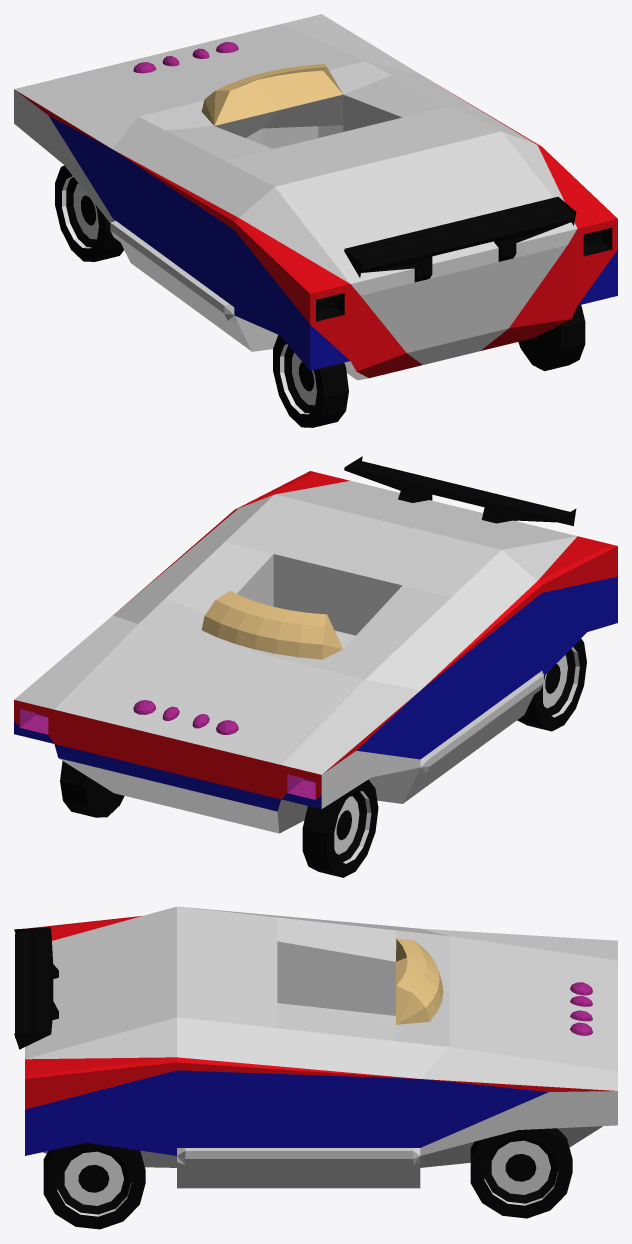
Rendered from COCHE 3.fbx.
The picture shows the model from 3 angles, top to bottom: view 1: azimuth 30°, elevation 25°; view 2: azimuth 150°, elevation 25°; view 3: azimuth 270°, elevation 25°; orthographic projection.
Visible parts, largest first — view 1: CHASIS, RUEDA TRASERA IZQUIERDA, RUEDA DELANTERA IZQUIERDA, RUEDA TRASERA DERECHA; view 2: CHASIS, RUEDA DELANTERA IZQUIERDA, RUEDA TRASERA IZQUIERDA, RUEDA DELANTERA DERECHA; view 3: CHASIS, RUEDA DELANTERA DERECHA, RUEDA TRASERA DERECHA.
Part boxes in pixels (box(x1,y1,x2,y2)): CHASIS: box(14, 14, 617, 380); RUEDA TRASERA IZQUIERDA: box(273, 335, 348, 427); RUEDA DELANTERA IZQUIERDA: box(55, 165, 123, 261); RUEDA TRASERA DERECHA: box(518, 305, 585, 371); CHASIS: box(14, 456, 617, 833); RUEDA DELANTERA IZQUIERDA: box(302, 779, 378, 877); RUEDA TRASERA IZQUIERDA: box(517, 639, 586, 731); RUEDA DELANTERA DERECHA: box(60, 761, 124, 817); CHASIS: box(14, 906, 617, 1188); RUEDA DELANTERA DERECHA: box(470, 1128, 572, 1218); RUEDA TRASERA DERECHA: box(43, 1142, 145, 1229).
Bounding box in the file's own units: 249 × 152 × 407.
